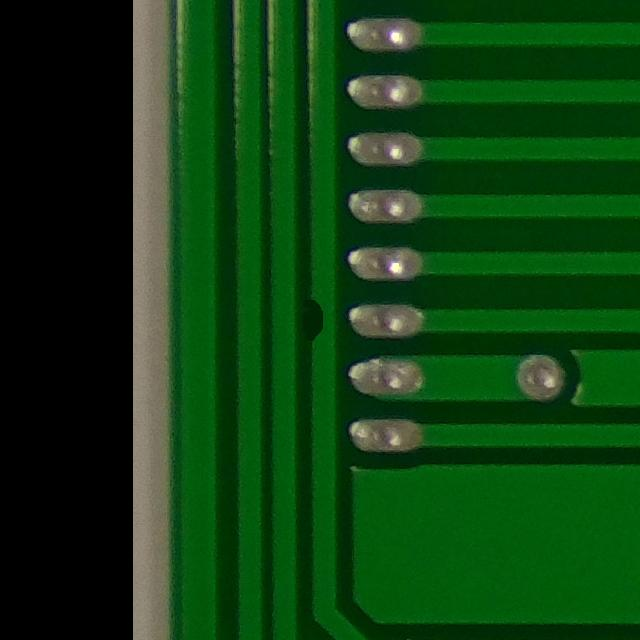mouse_bite: (299, 281, 341, 359)
